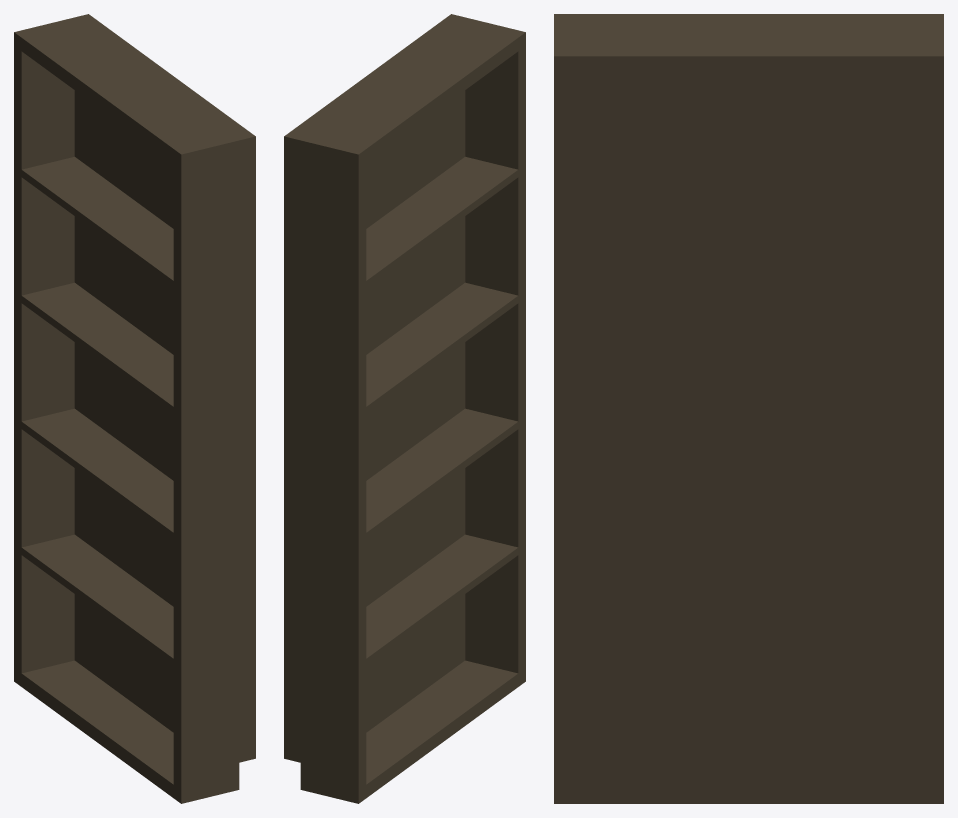
File: Estanteria (1).fbx
3 views of the same model, side by side, from view 1: azimuth 30°, elevation 25°; view 2: azimuth 150°, elevation 25°; view 3: azimuth 270°, elevation 25° (orthographic). The views are drawn at different scales.
Visible parts, largest first — view 1: Estanteria; view 2: Estanteria; view 3: Estanteria.
Boxes of the visible parts, bbox=[...] form: Estanteria: bbox=[14, 14, 255, 803]; Estanteria: bbox=[284, 14, 525, 803]; Estanteria: bbox=[554, 14, 943, 803].
Bounding box in the file's own units: 0.2662 × 2.22 × 1.03.
